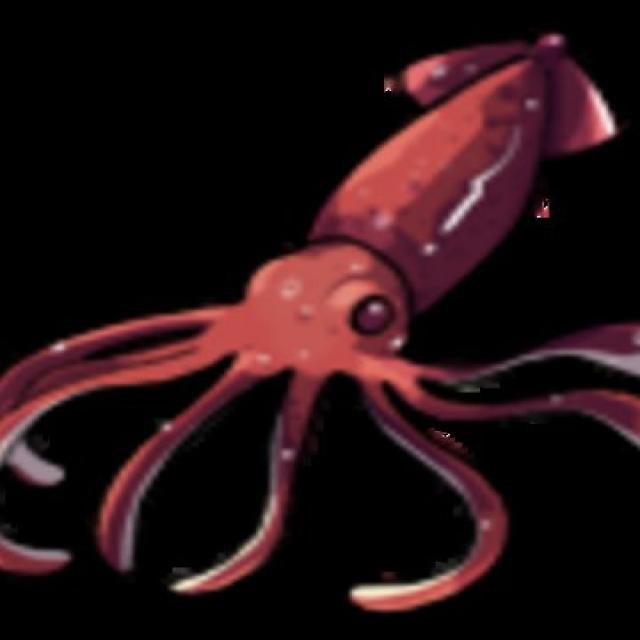squid: (0, 34, 638, 609)
